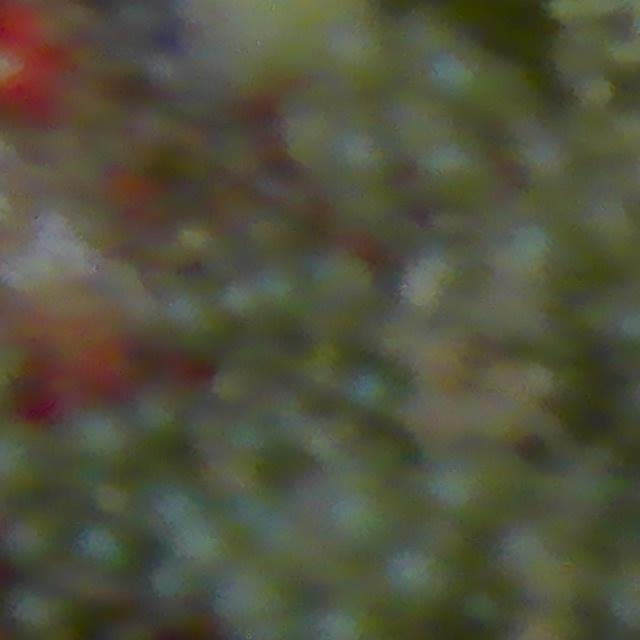SeaGrape: (219, 560, 295, 635), (381, 544, 458, 618), (320, 490, 394, 564), (67, 402, 133, 470), (3, 580, 73, 640), (0, 508, 64, 570), (421, 47, 485, 108), (70, 518, 133, 579), (421, 140, 475, 202), (336, 126, 390, 187)
